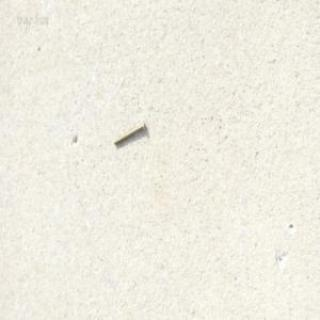Bolttrack_idkeyframe: (112, 119, 144, 146)
